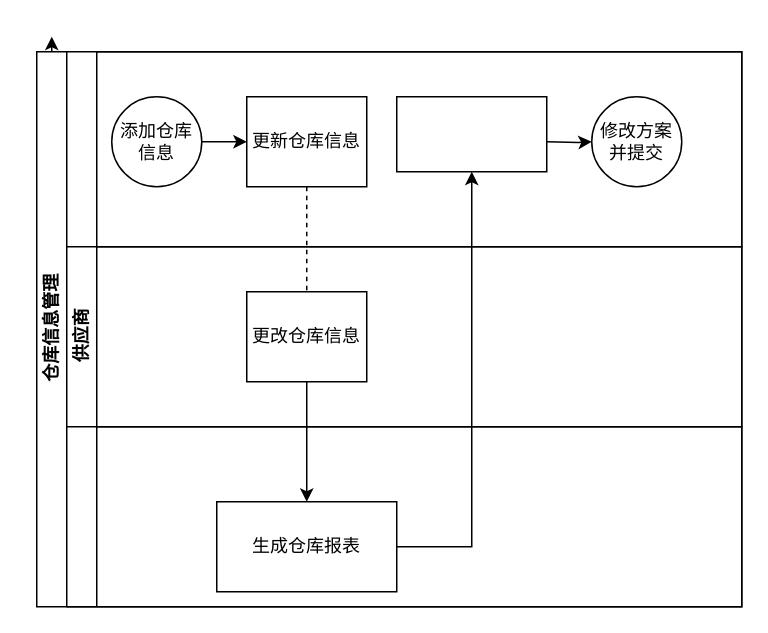
Some shapes in this 768 by 633 pixel diagram are drawn without their labels. The shapes that lost their labels are listed below. From the top down, each one's box as (x1, y1, x2, y2) in pixels, then its label:
(65, 50, 742, 247): 管理员
(395, 95, 547, 172): 查询报表
(65, 425, 742, 607): 系统
